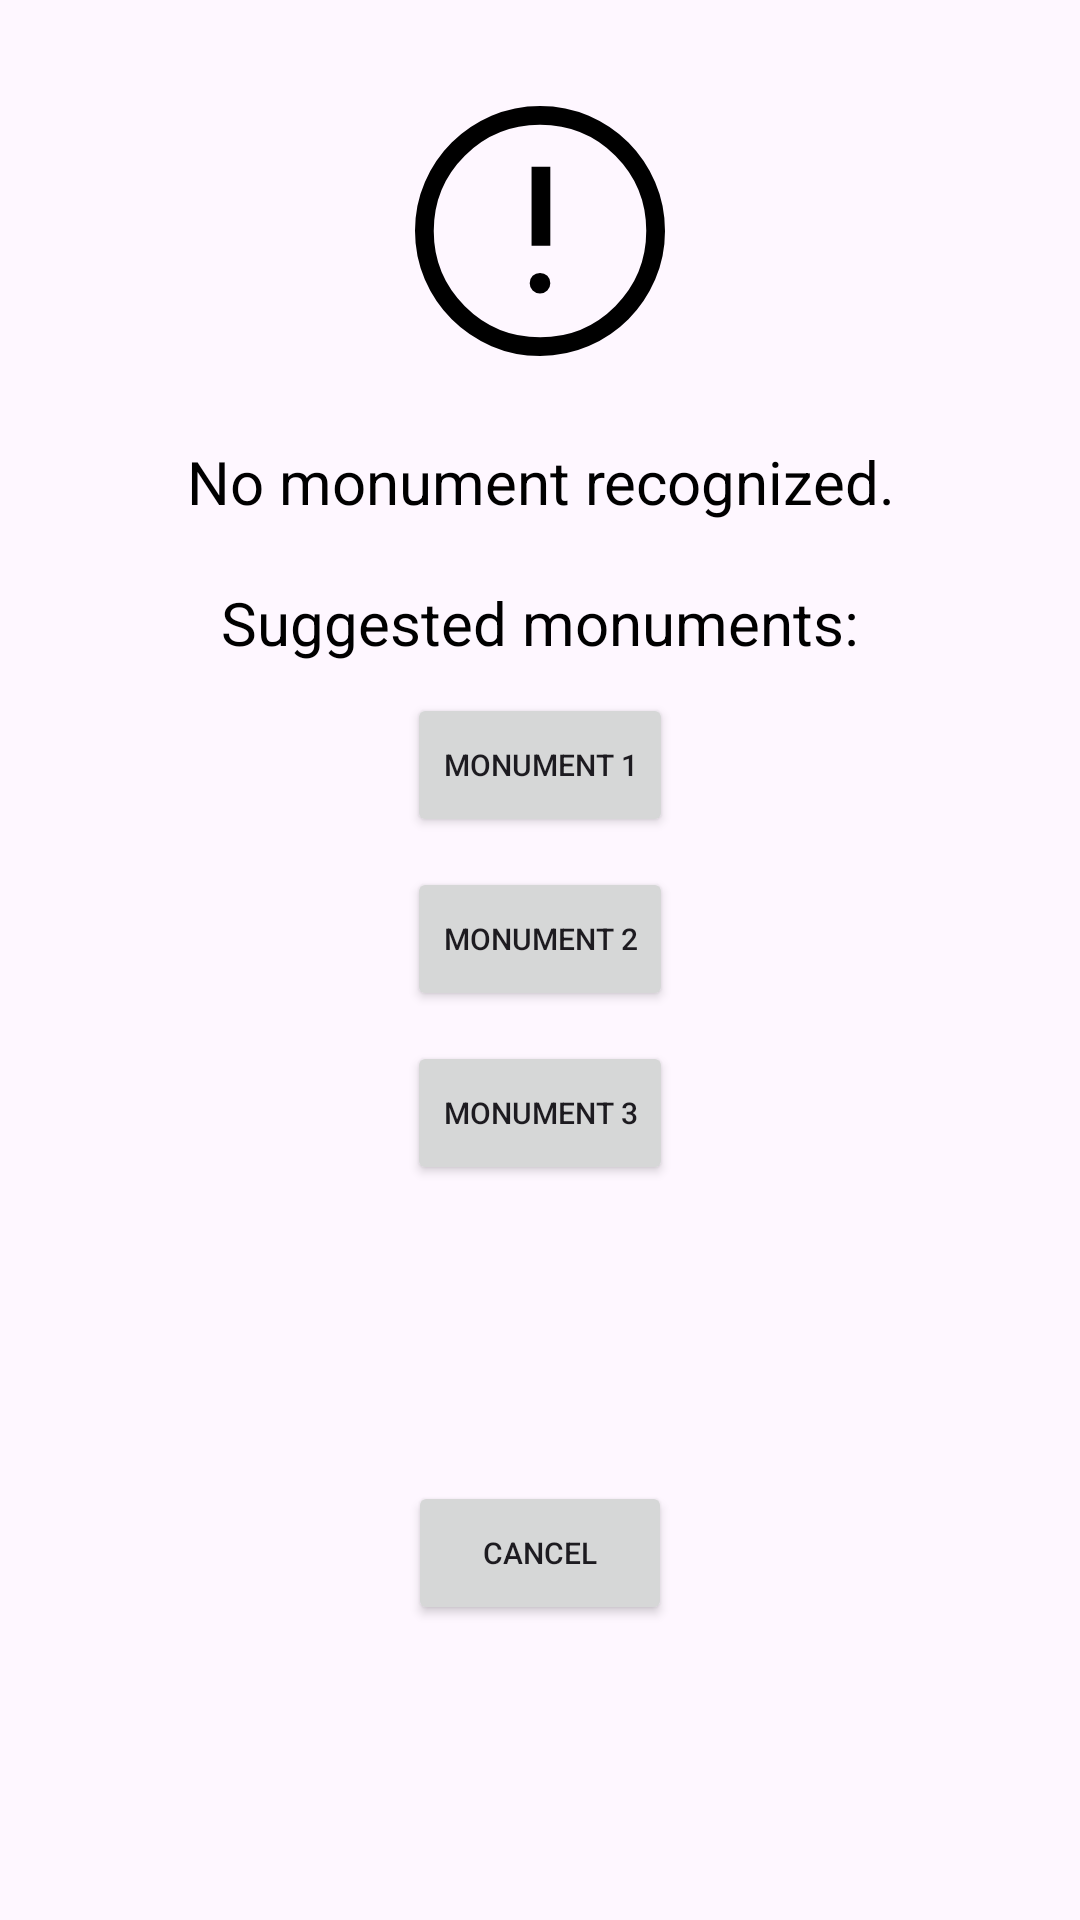

Icons on this 1080*1920 Android screen, each with its box as (x1, y1, x2, y2):
error: (415, 106, 665, 356)
